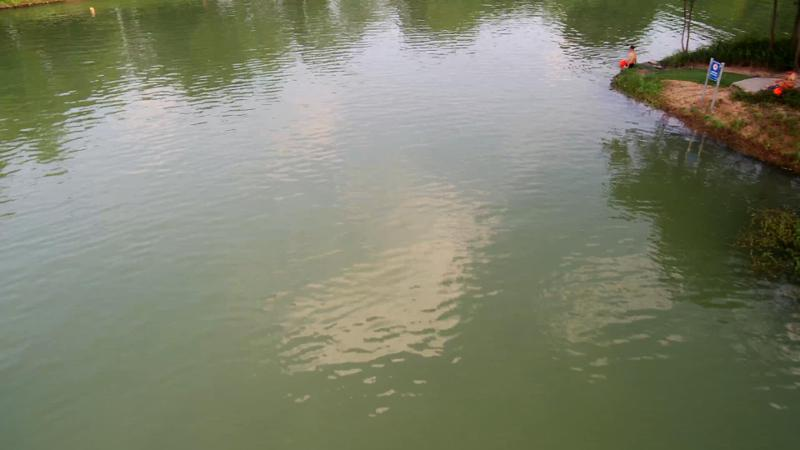sus_swimmers: (774, 67, 796, 88), (623, 45, 637, 69)
